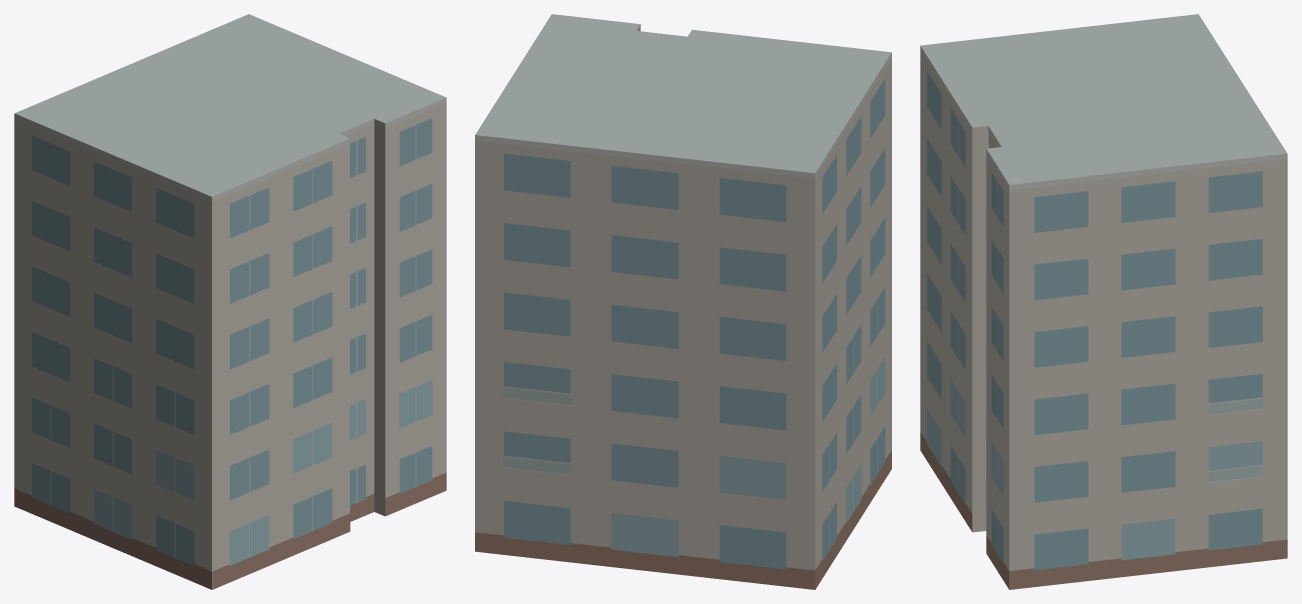
The model's file is survey-upis-32713740.glb.
3 views of the same model, side by side, from view 1: azimuth 30°, elevation 25°; view 2: azimuth 150°, elevation 25°; view 3: azimuth 270°, elevation 25° (orthographic). The views are drawn at different scales.
Visible parts, largest first — view 1: survey-upis-32713740.tmp; view 2: survey-upis-32713740.tmp; view 3: survey-upis-32713740.tmp.
Part boxes in pixels (box(x1,y1,x2,y2)): survey-upis-32713740.tmp: box(14, 14, 446, 589); survey-upis-32713740.tmp: box(475, 14, 891, 589); survey-upis-32713740.tmp: box(920, 14, 1287, 589).
Bounding box in the file's own units: 16.87 × 18.6 × 15.3.
